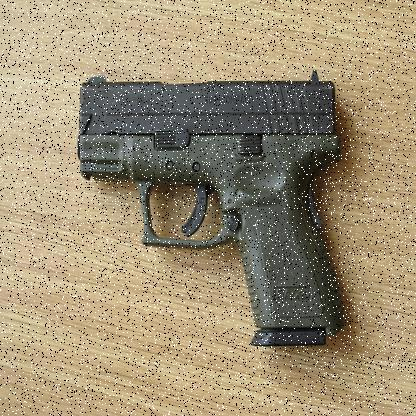pistol: (77, 70, 347, 350)
